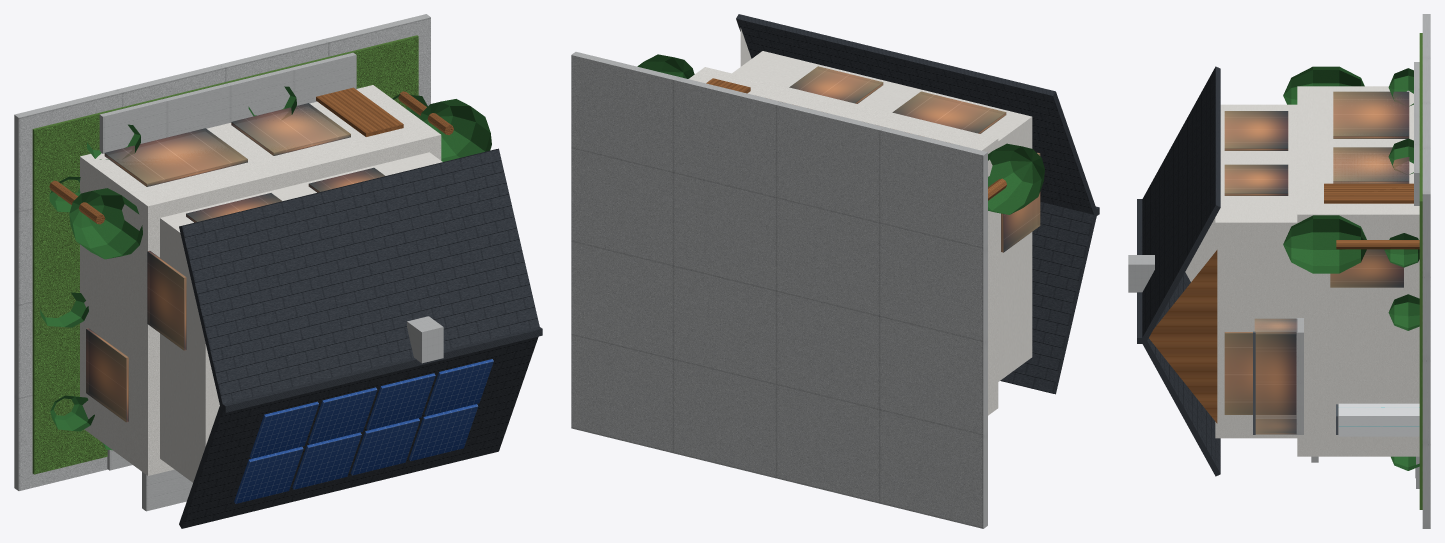
The model's file is solar_house_360.glb.
3 views of the same model, side by side, from view 1: azimuth 30°, elevation 25°; view 2: azimuth 150°, elevation 25°; view 3: azimuth 270°, elevation 25° (orthographic). The views are drawn at different scales.
Parts seen in each view (by area): view 1: Node; view 2: Node; view 3: Node.
Boxes of the visible parts, box(x1,y1,x2,y2) form: Node: box(14, 14, 542, 528); Node: box(571, 14, 1099, 528); Node: box(1128, 14, 1430, 528).
Bounding box in the file's own units: 10.4 × 9 × 7.38.
Materials: 12 (11 with a texture image).
